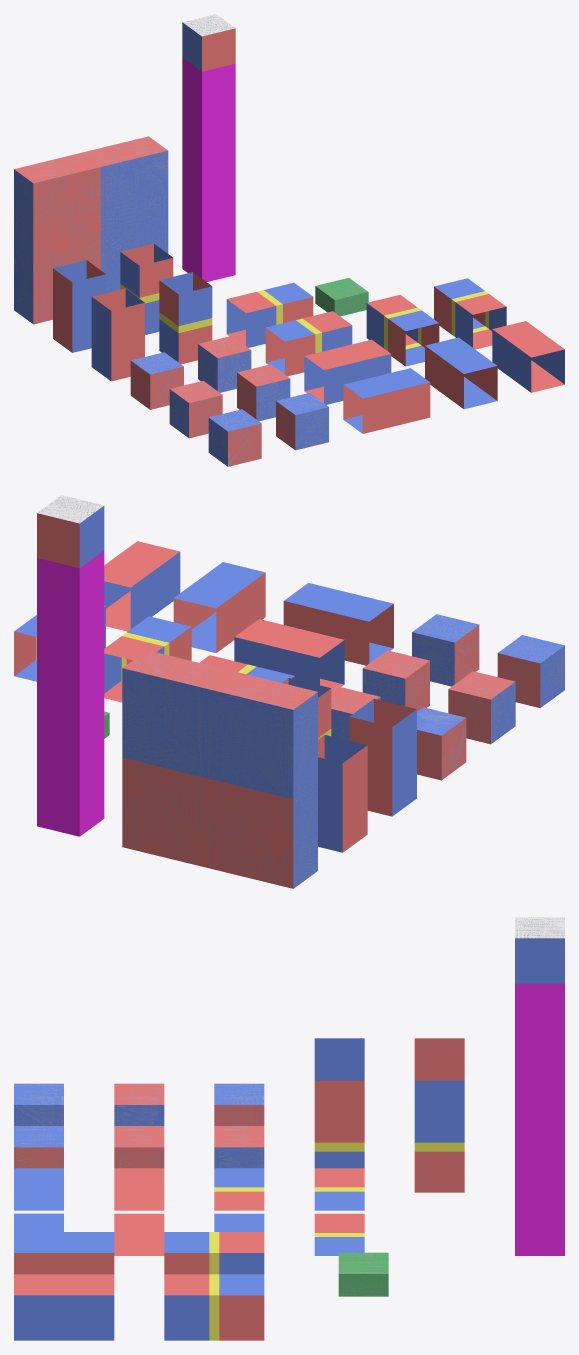
The model's file is template_v8.dae.
3 renders of one model, top to bottom at view 1: azimuth 30°, elevation 25°; view 2: azimuth 150°, elevation 25°; view 3: azimuth 270°, elevation 25°, orthographic. The views are drawn at different scales.
Visible parts, largest first — view 1: patch_rotation (×2), cultivation (×4), zox (×4), xoz (×4), oxz (×2), zxo (×2), zxoh (×4), xzo (×2), ozx (×2), oxzh (×4), ozxh (×4), zxz (×2) (+9 smaller); view 2: patch_rotation (×2), cultivation (×4), xoz (×4), zxo (×3), oxz (×3), xzo (×3), ozx (×3), zox (×3), zxz (×2), zxx (×2), xzz (×2), xzx (×2) (+5 smaller); view 3: cultivation (×3), zoxh (×5), zox (×2), xzoh (×3), ozx (×2), xoz (×2), zxoh (×3), xozh (×4), ozxh (×4), oxz (×2), oxzh (×3), Y (+8 smaller).
Boxes of the visible parts, left/top/right/bottom form: patch_rotation (×2): left=14, top=136, right=168, bottom=324; cultivation (×4): left=182, top=14, right=235, bottom=281; zox (×4): left=492, top=321, right=564, bottom=392; xoz (×4): left=425, top=337, right=497, bottom=409; oxz (×2): left=343, top=368, right=430, bottom=433; zxo (×2): left=91, top=297, right=144, bottom=381; zxoh (×4): left=159, top=280, right=212, bottom=364; xzo (×2): left=53, top=268, right=105, bottom=352; ozx (×2): left=305, top=339, right=391, bottom=404; oxzh (×4): left=266, top=311, right=352, bottom=376; ozxh (×4): left=227, top=282, right=313, bottom=347; zxz (×2): left=208, top=409, right=261, bottom=466; patch_rotation (×2): left=122, top=650, right=317, bottom=888; cultivation (×4): left=37, top=495, right=104, bottom=836; xoz (×4): left=173, top=562, right=265, bottom=652; zxo (×3): left=349, top=698, right=416, bottom=816; oxz (×3): left=283, top=583, right=393, bottom=665; xzo (×3): left=318, top=735, right=367, bottom=852; ozx (×3): left=234, top=619, right=344, bottom=685; zox (×3): left=104, top=541, right=180, bottom=631; zxz (×2): left=497, top=635, right=564, bottom=707; zxx (×2): left=448, top=671, right=515, bottom=744; xzz (×2): left=412, top=614, right=479, bottom=686; xzx (×2): left=362, top=650, right=429, bottom=711; cultivation (×3): left=515, top=917, right=564, bottom=1255; zoxh (×5): left=164, top=1274, right=264, bottom=1340; zox (×2): left=14, top=1274, right=114, bottom=1340; xzoh (×3): left=414, top=1080, right=464, bottom=1192; ozx (×2): left=114, top=1168, right=164, bottom=1255; xoz (×2): left=14, top=1232, right=114, bottom=1274; zxoh (×3): left=314, top=1080, right=364, bottom=1168; xozh (×4): left=164, top=1232, right=264, bottom=1274; ozxh (×4): left=314, top=1168, right=364, bottom=1255; oxz (×2): left=14, top=1168, right=63, bottom=1231; oxzh (×3): left=214, top=1168, right=264, bottom=1231; Y: left=338, top=1252, right=388, bottom=1296.
Size of the model in its own units: 10 by 11 by 7.
